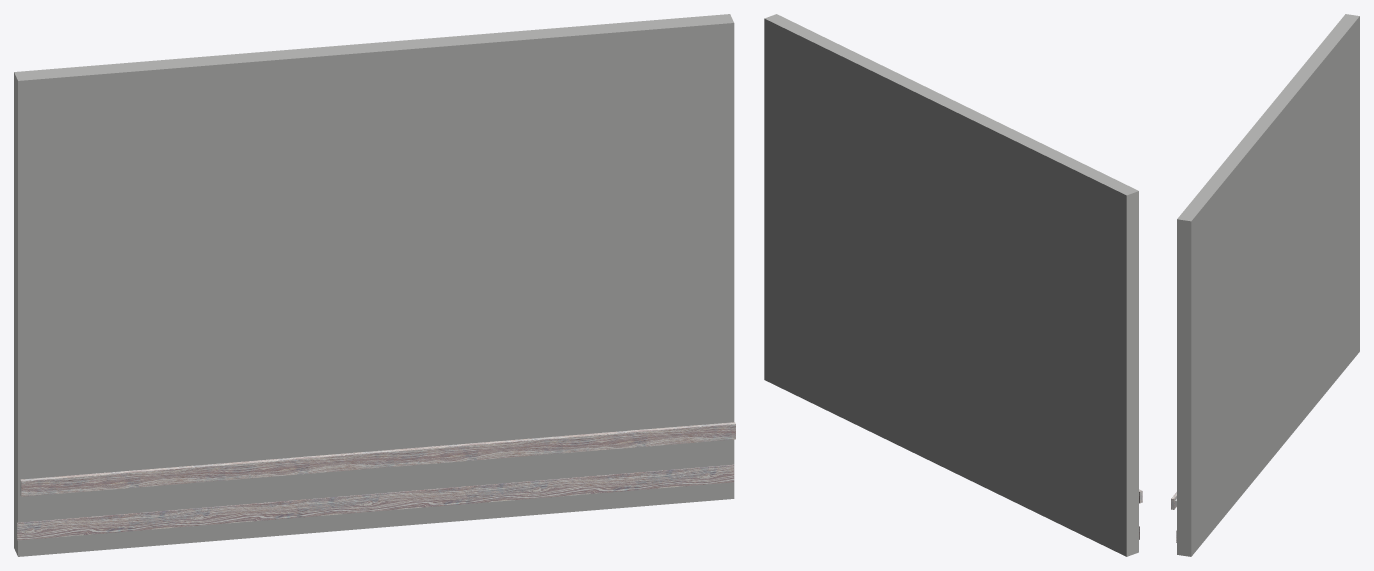
Rendered from Diagonal_wall2.obj.
3 renders of one model, left to right at view 1: azimuth 30°, elevation 25°; view 2: azimuth 150°, elevation 25°; view 3: azimuth 270°, elevation 25°, orthographic. The views are drawn at different scales.
Parts seen in each view (by area): view 1: Part4, Part3, Part2; view 2: Part4; view 3: Part4.
Part boxes in pixels (<box>): Part4: <box>14,14,734,556</box>; Part3: <box>17,464,734,540</box>; Part2: <box>20,422,735,496</box>; Part4: <box>764,14,1138,556</box>; Part4: <box>1177,14,1359,556</box>.
Bounding box in the file's own units: 32.44 × 24.43 × 12.46.
Materials: 3 (2 with a texture image).
